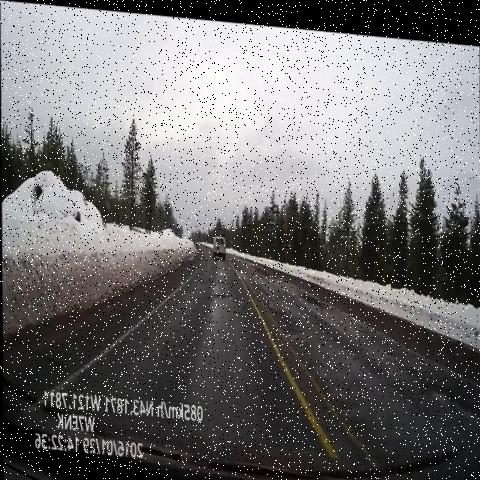pothole: (293, 269, 331, 315), (208, 283, 234, 306), (211, 267, 232, 287)
